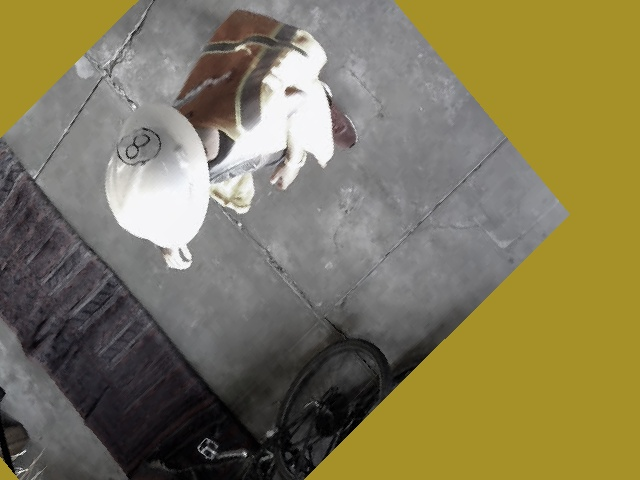eight: (110, 117, 167, 179)
